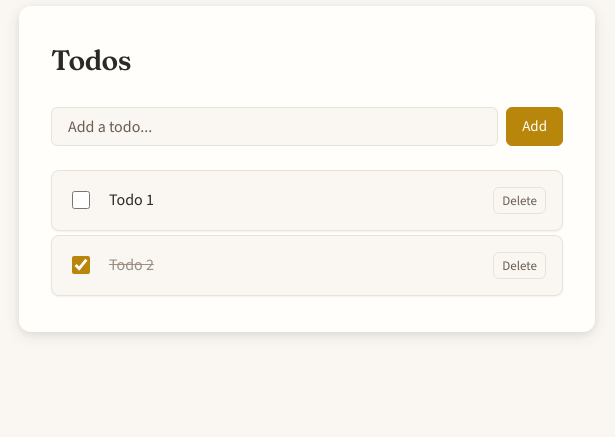
Scenario: App › displays error when toggle fails
Click the checkbox named "Toggle Todo 1".
click(81, 200)  # box [72, 191, 90, 209]
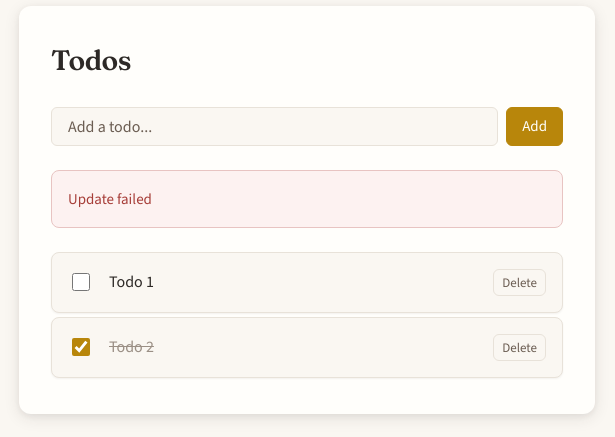
Check: the message "Update failed" is shown, box [51, 170, 563, 228]
